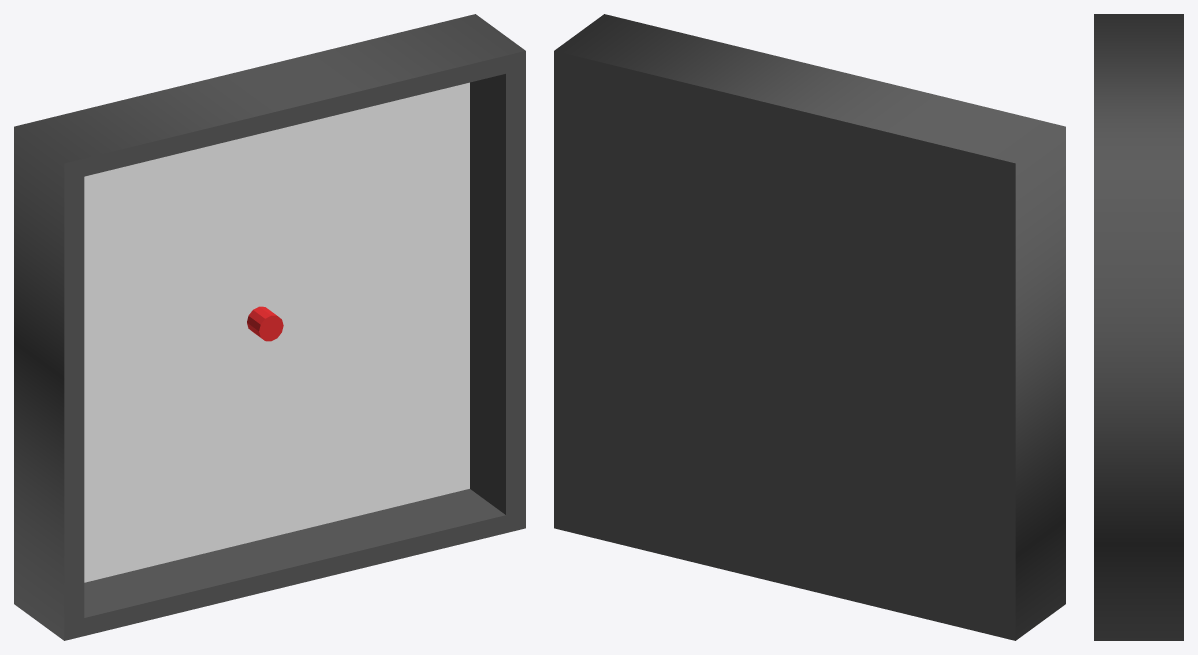
The model's file is Itr_Obj_clock3_03.FBX.
3 views of the same model, side by side, from view 1: azimuth 30°, elevation 25°; view 2: azimuth 150°, elevation 25°; view 3: azimuth 270°, elevation 25° (orthographic). The views are drawn at different scales.
Visible parts, largest first — view 1: Itr_Obj_clock3_03; view 2: Itr_Obj_clock3_03; view 3: Itr_Obj_clock3_03.
Boxes of the visible parts, box(x1,y1,x2,y2) form: Itr_Obj_clock3_03: box(14, 14, 525, 640); Itr_Obj_clock3_03: box(554, 14, 1065, 640); Itr_Obj_clock3_03: box(1094, 14, 1183, 640).
Bounding box in the file's own units: 10.59 × 10.47 × 2.
